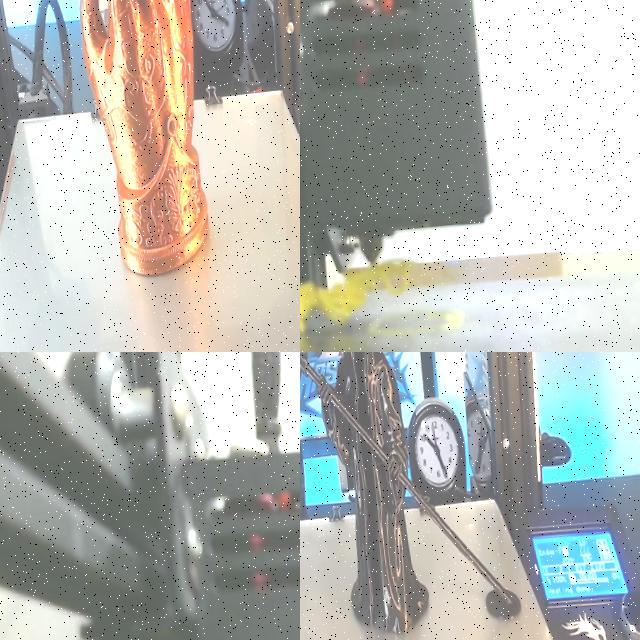spaghetti: (300, 259, 414, 332)
